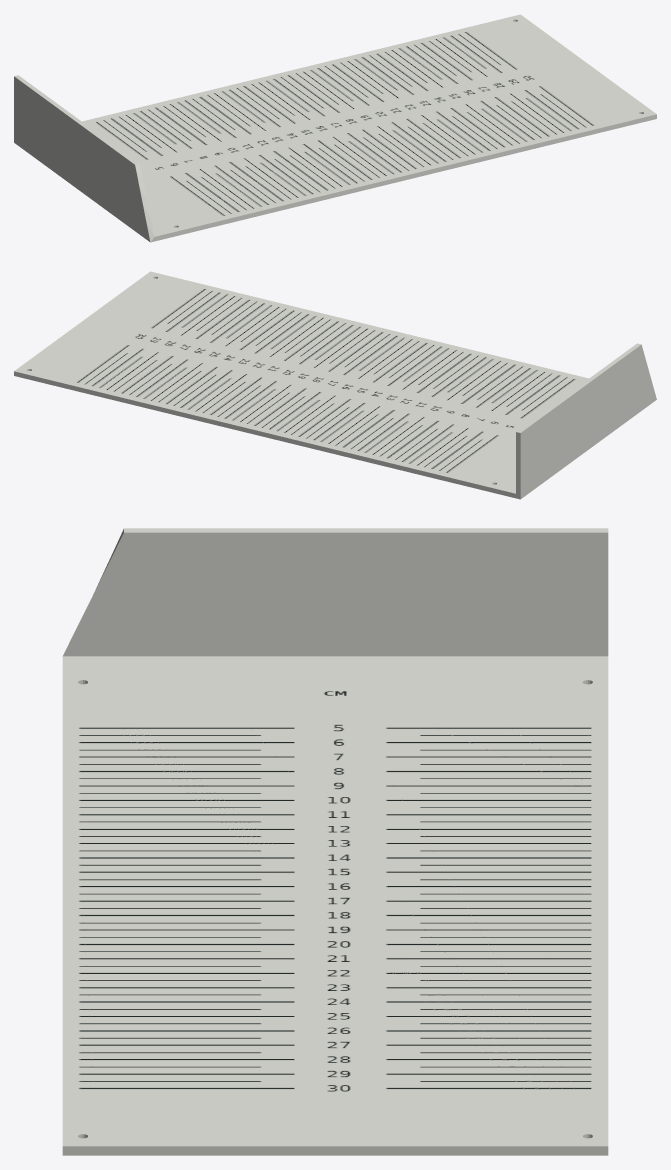
3 renders of one model, top to bottom at view 1: azimuth 30°, elevation 25°; view 2: azimuth 150°, elevation 25°; view 3: azimuth 270°, elevation 25°, orthographic. The views are drawn at different scales.
Parts seen in each view (by area): view 1: NEW666_FishMeasuringBoard; view 2: NEW666_FishMeasuringBoard; view 3: NEW666_FishMeasuringBoard.
Part boxes in pixels (x1,y1,x2,y2): NEW666_FishMeasuringBoard: [14, 14, 656, 242]; NEW666_FishMeasuringBoard: [14, 271, 656, 499]; NEW666_FishMeasuringBoard: [62, 528, 608, 1155].
Size of the model in its own units: 0.343 by 0.043 by 0.16.
1 material, 1 textured.
